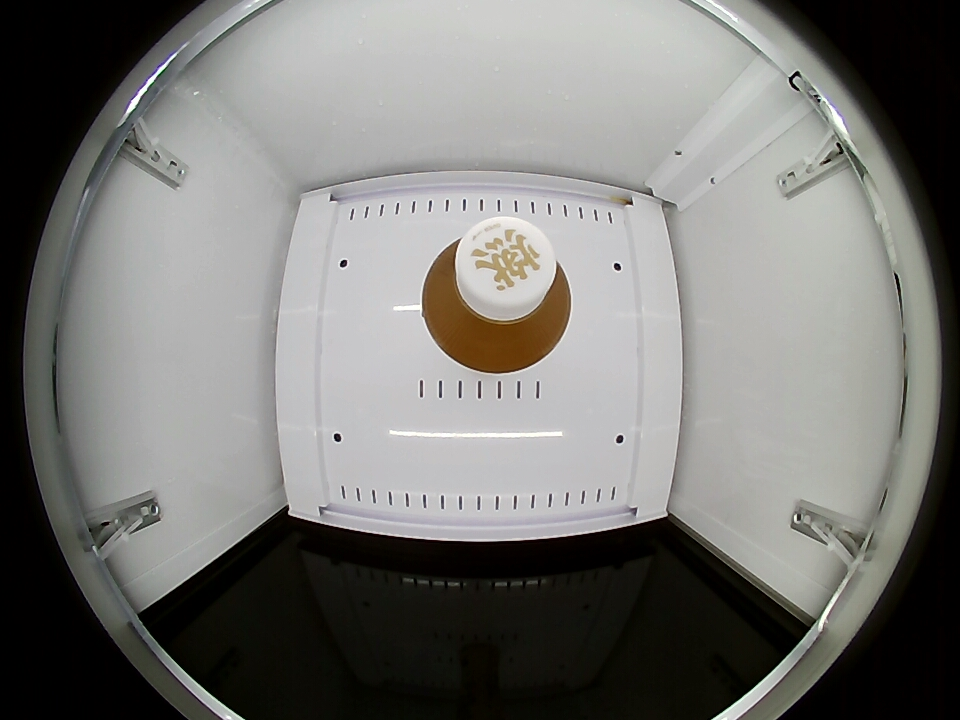rancha-2: (422, 216, 572, 373)
